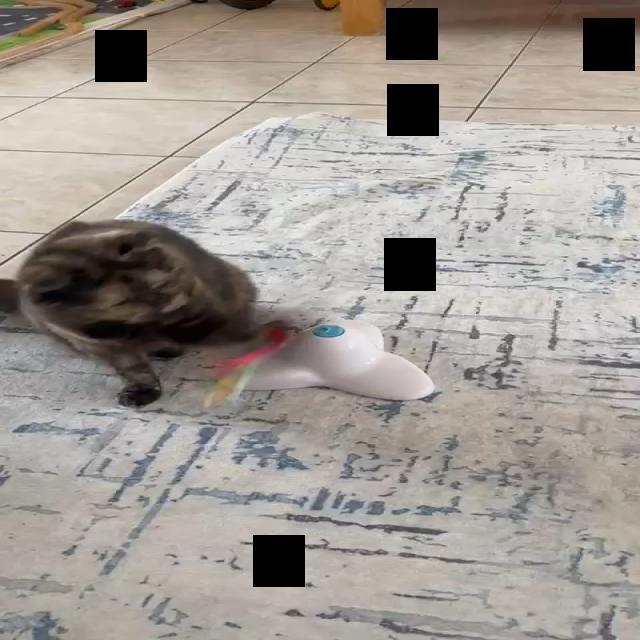authorized: (12, 218, 260, 408)
